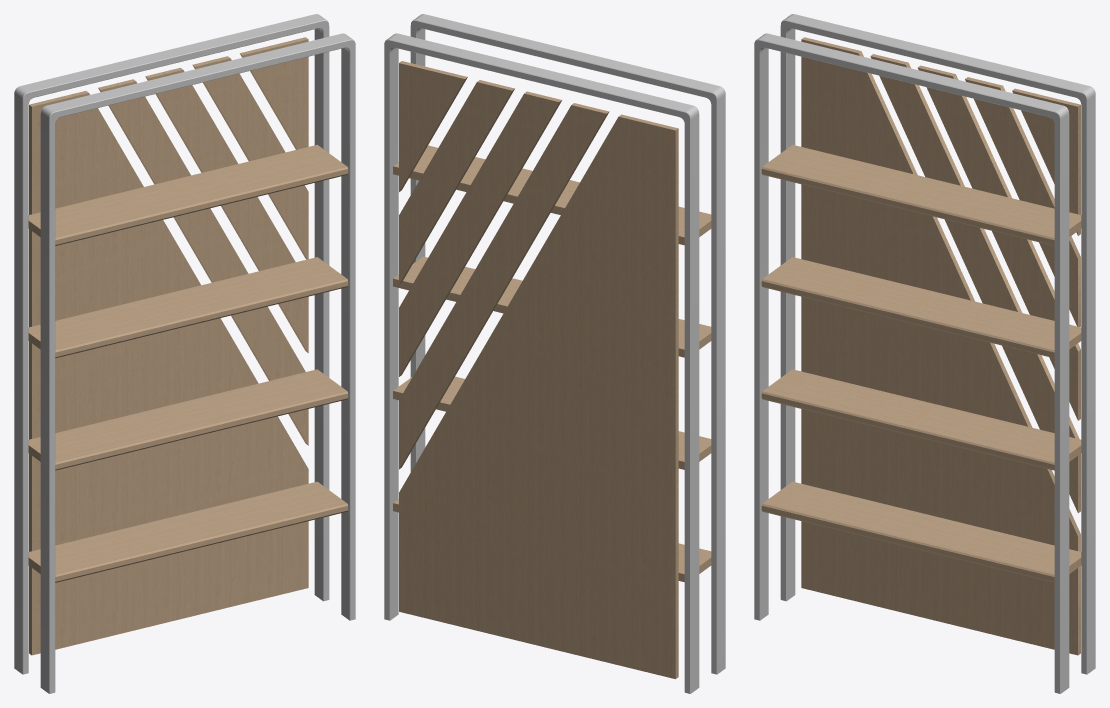
Rendered from D_CafeShelf_001.fbx.
3 renders of one model, left to right at view 1: azimuth 30°, elevation 25°; view 2: azimuth 150°, elevation 25°; view 3: azimuth 330°, elevation 25°, orthographic.
Parts seen in each view (by area): view 1: D_CafeShelf_001; view 2: D_CafeShelf_001; view 3: D_CafeShelf_001.
Boxes of the visible parts, x1,y1,x2,y2 form: D_CafeShelf_001: (14,14,355,693); D_CafeShelf_001: (384,14,725,693); D_CafeShelf_001: (754,14,1095,693).
Bounding box in the file's own units: 2 × 3.62 × 0.3997.
